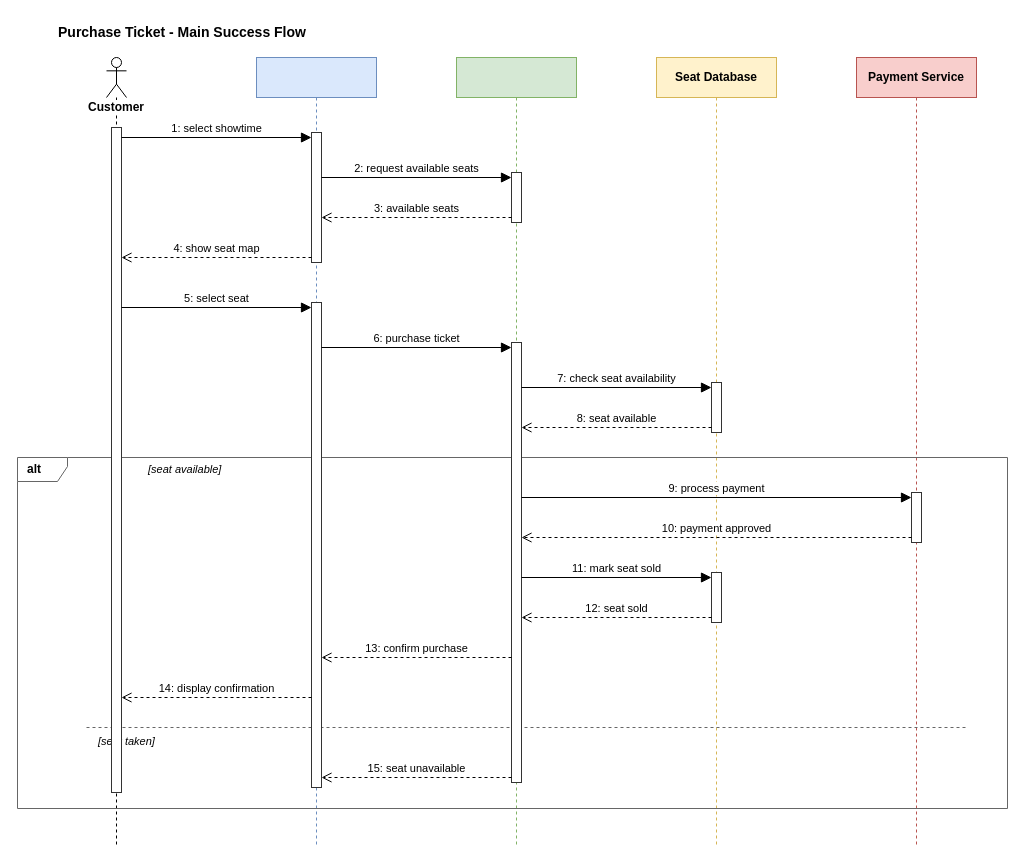
The diagram is 1025 pixels wide and 865 high, and some of its shapes have lost their labels. The shapes that lost their labels are listed below. From the top down, each one's box as (x1, y1, x2, y2) in pixels, then its label:
(256, 56, 376, 848): Kiosk Interface
(456, 56, 576, 848): Ticket Service
